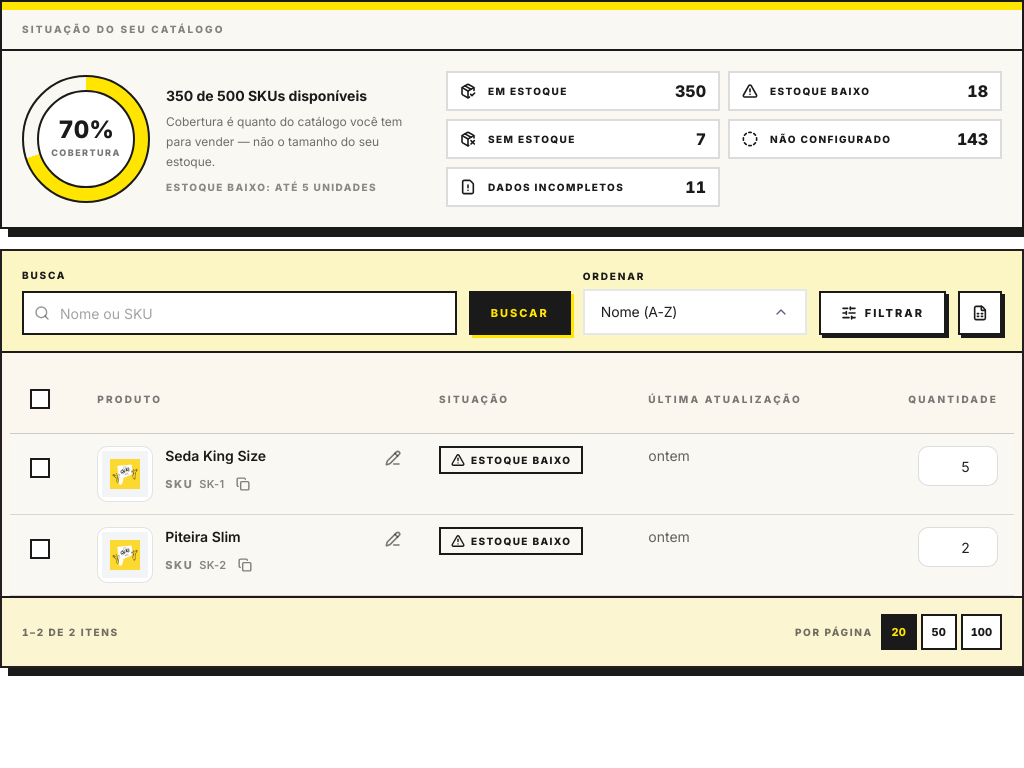
Test: VendorStockManager seleção em lote › cancels an autosave already scheduled when bulk changes the same product
Replace the text in the number field named "quantidade de seda king size" with "3": (958,466) [918,446,998,486]
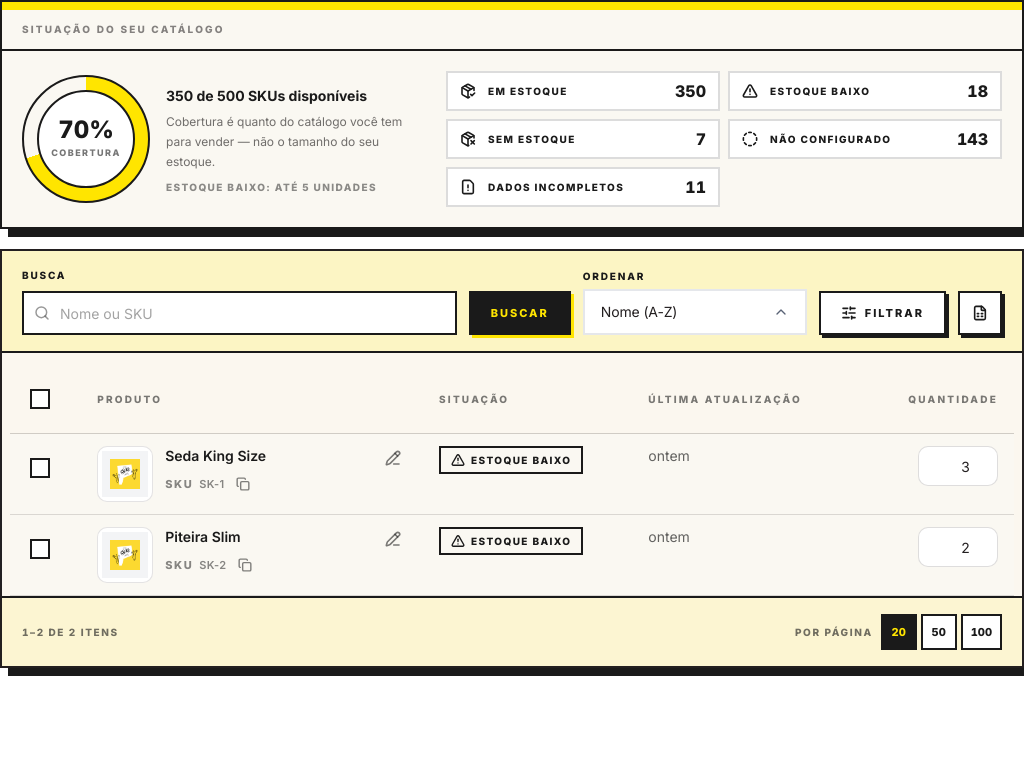
Click the checkbox named "Selecionar todos os produtos desta página": (40,399) [30,389,50,409]
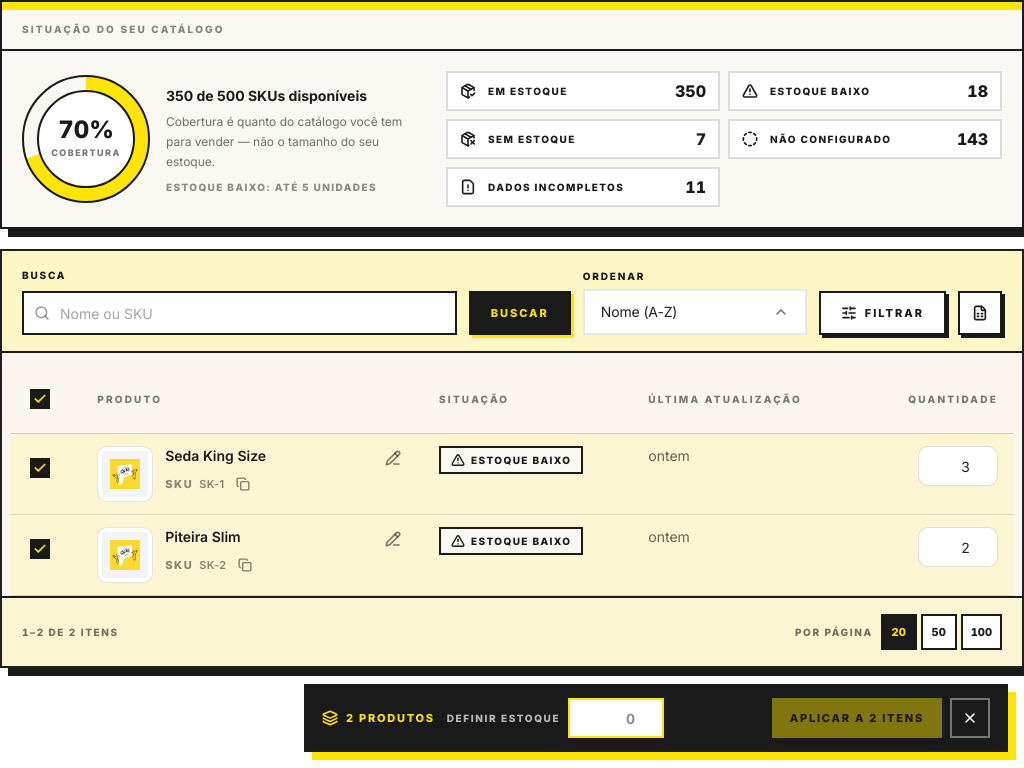
In the number field labelled "Definir estoque": (616,718) [568,698,664,738], type "20"
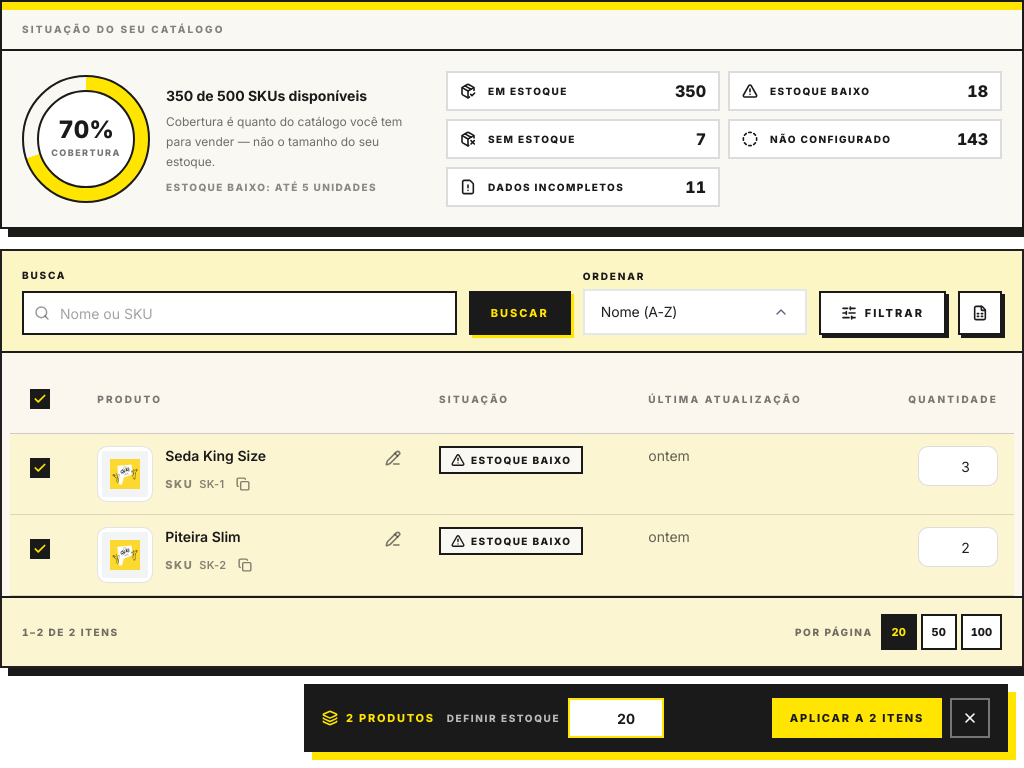
Click the button "Aplicar a 2 itens": (857,718) [772,698,942,738]
Wait 800 ms
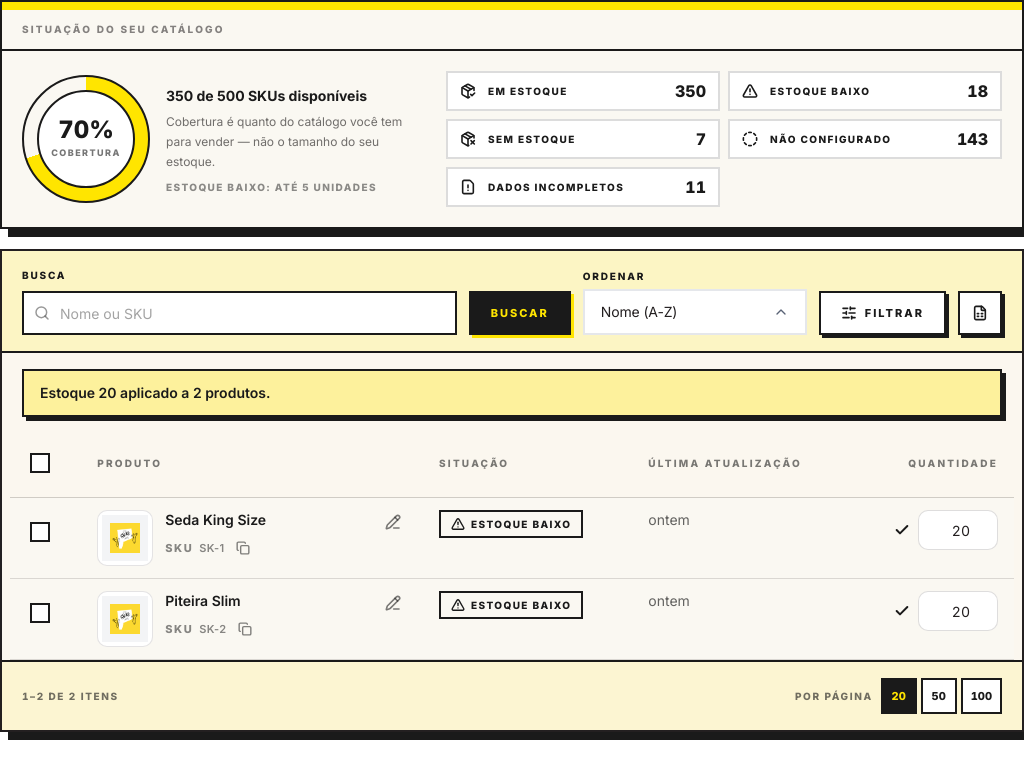
expect the number field named "quantidade de seda king size" holds "20": met, box [918,510,998,550]
